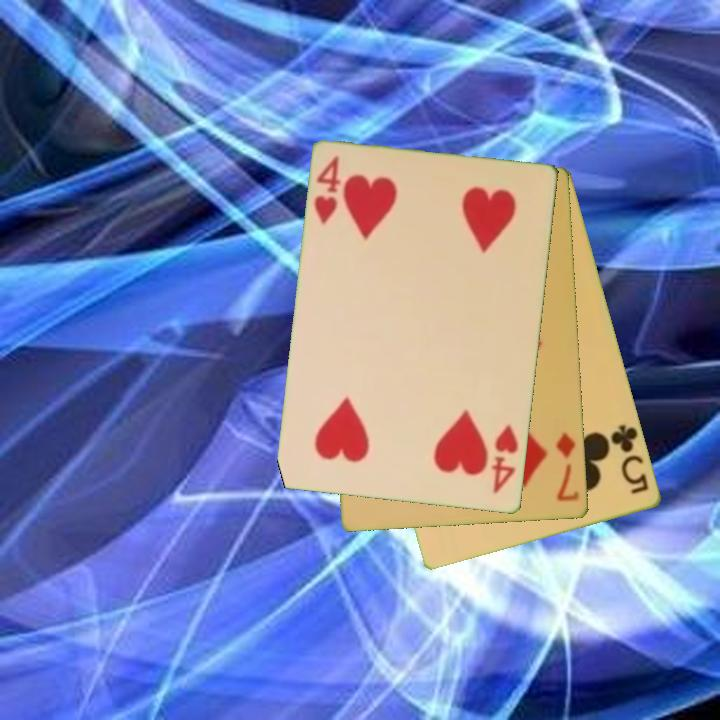4h: (488, 421, 522, 497), (311, 152, 345, 227)
5c: (608, 421, 652, 498)
7d: (552, 429, 582, 505)
